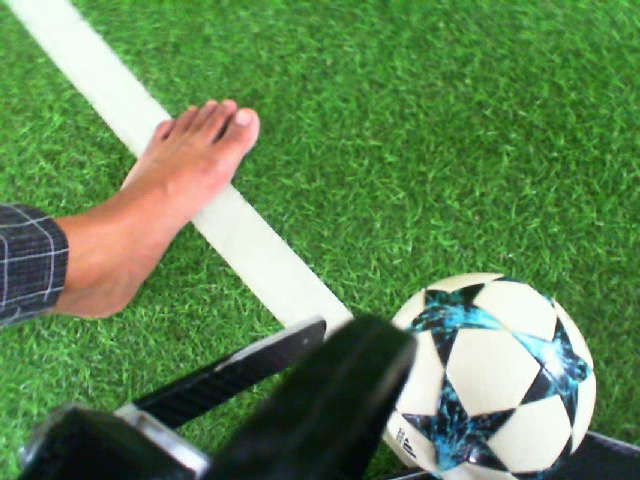ball: (382, 269, 599, 480)
